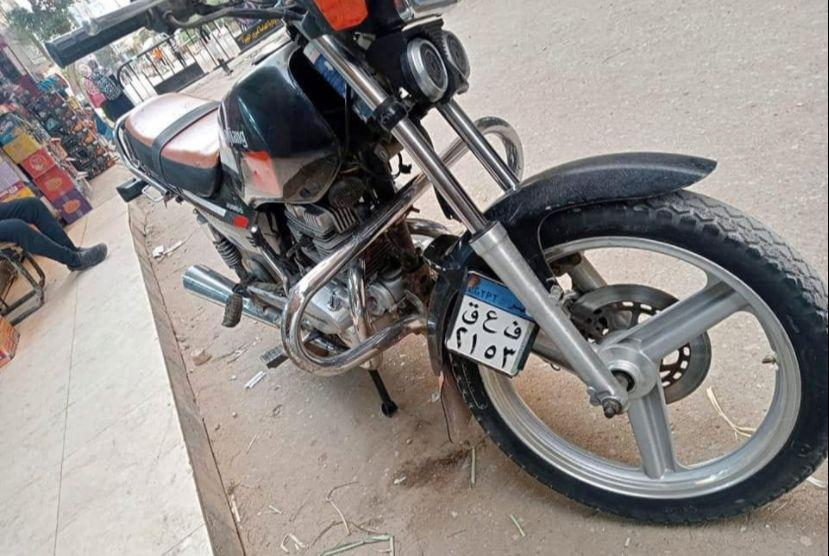License Plate: (447, 272, 548, 376)
